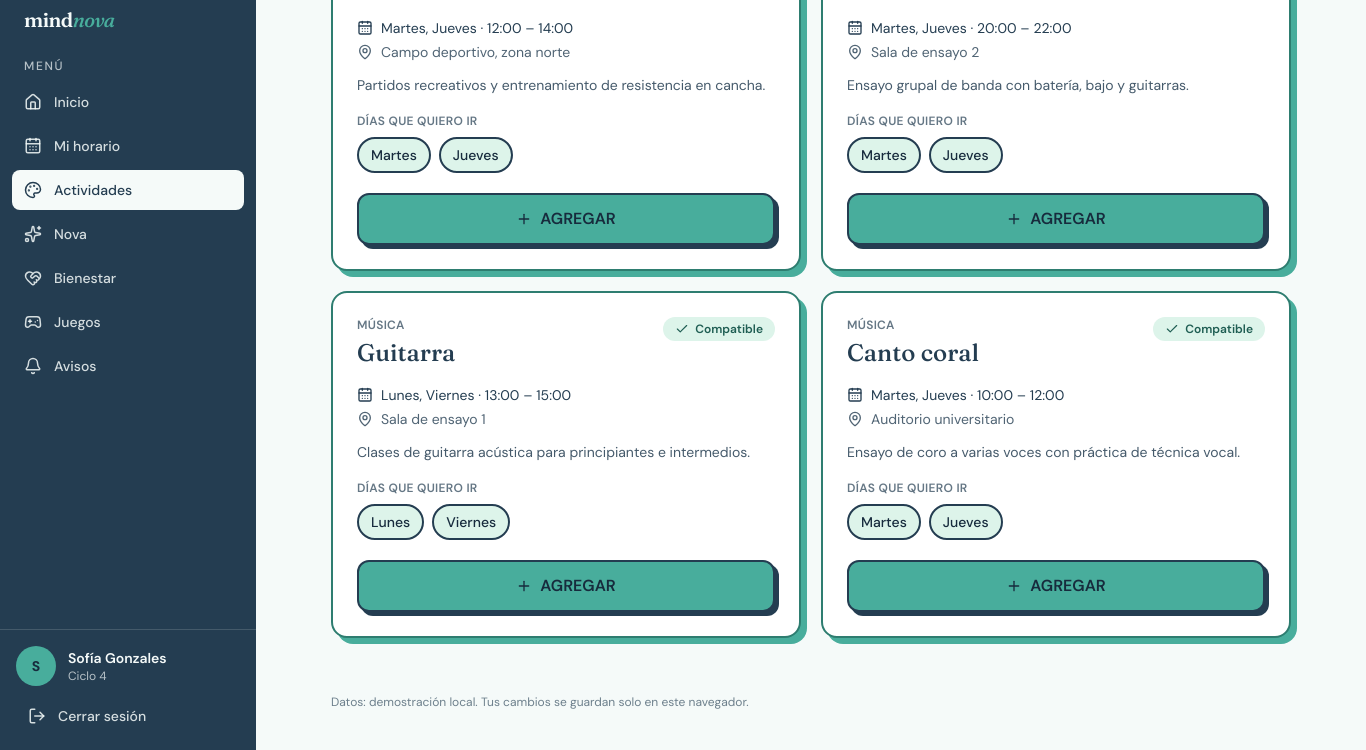
Explorar actividades › agrega una actividad compatible al horario, la guarda y la marca como agregada
(page scrolled)
Click the button "AGREGAR" below "Auditorio universitario" at x=1056, y=586, box [847,560,1265,612]
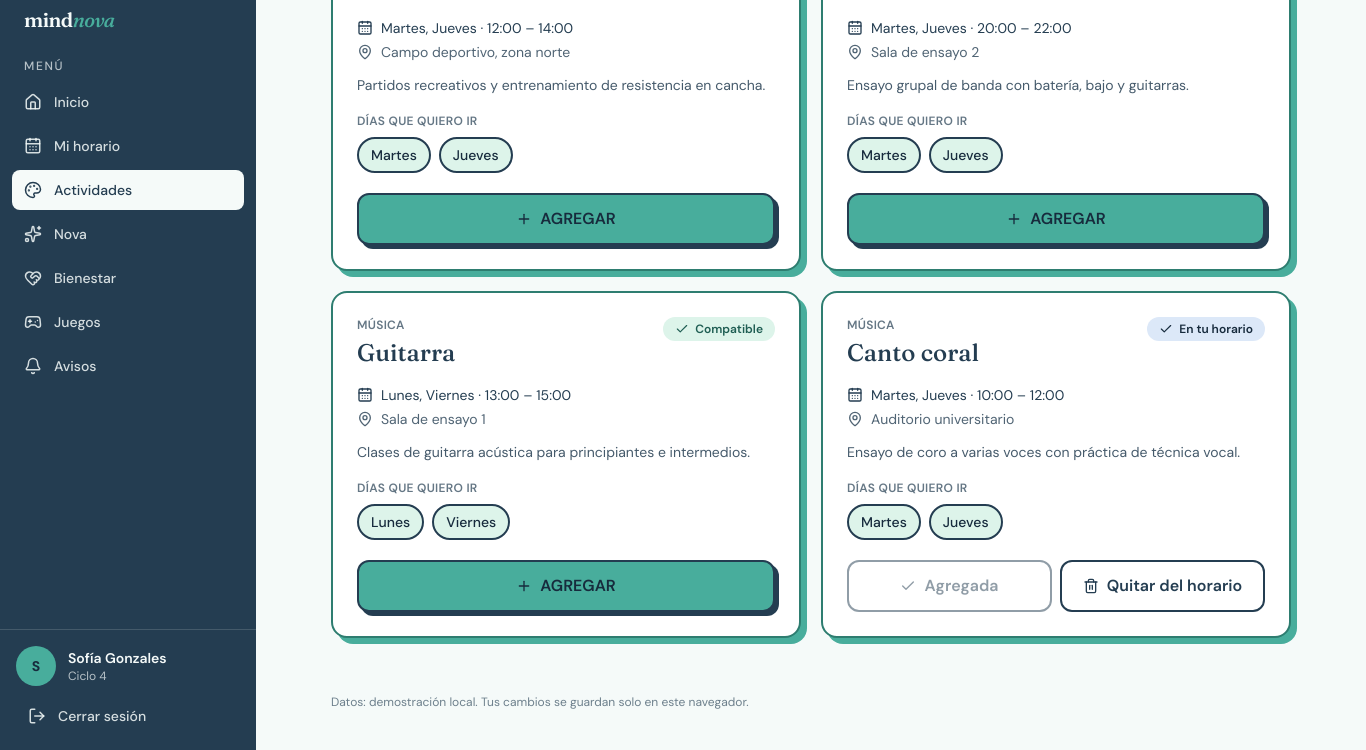
expect the button "Agregada" is disabled: met, box [847,560,1052,612]
expect the text "En tu horario" is shown: met, box [1147,317,1265,341]
